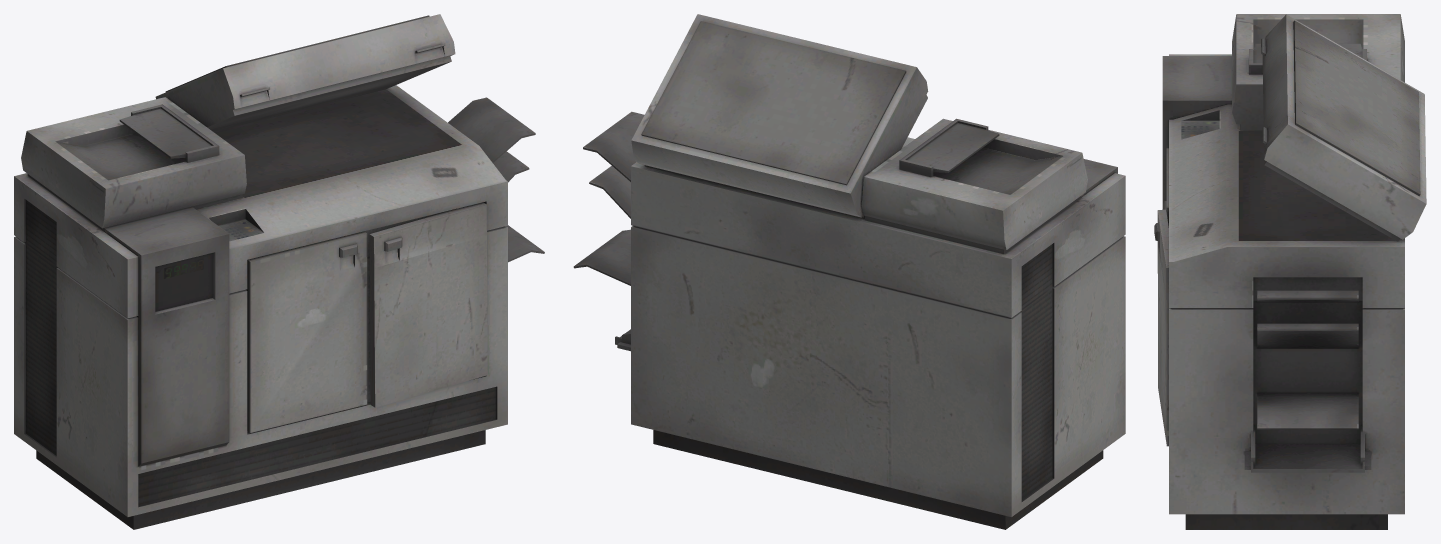
Rendered from Lab Copy Machine Broken.obj.
3 renders of one model, left to right at view 1: azimuth 30°, elevation 25°; view 2: azimuth 150°, elevation 25°; view 3: azimuth 270°, elevation 25°, orthographic. The views are drawn at different scales.
Visible parts, largest first — view 1: lab_copy_machine_broken; view 2: lab_copy_machine_broken; view 3: lab_copy_machine_broken.
Boxes of the visible parts, box(x1,y1,x2,y2) form: lab_copy_machine_broken: box(14, 14, 544, 529); lab_copy_machine_broken: box(573, 14, 1125, 529); lab_copy_machine_broken: box(1154, 14, 1426, 529).
Bounding box in the file's own units: 2.48 × 2.03 × 1.23.
Materials: 1 (1 with a texture image).
